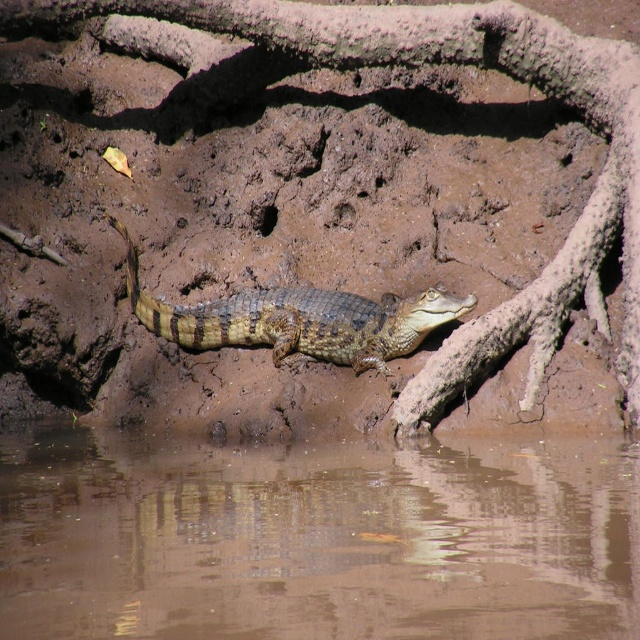Crocodile: (104, 212, 479, 381)
